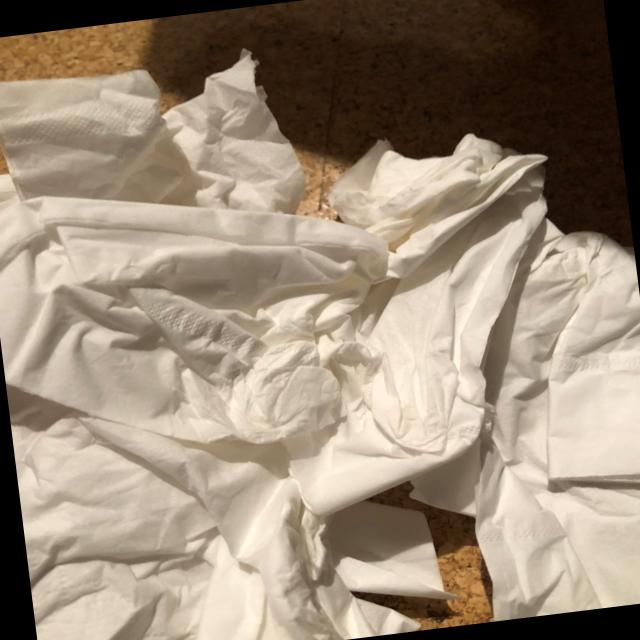organic waste: (208, 116, 596, 524), (0, 120, 418, 477), (5, 330, 471, 640), (373, 204, 640, 626), (0, 37, 310, 256)
